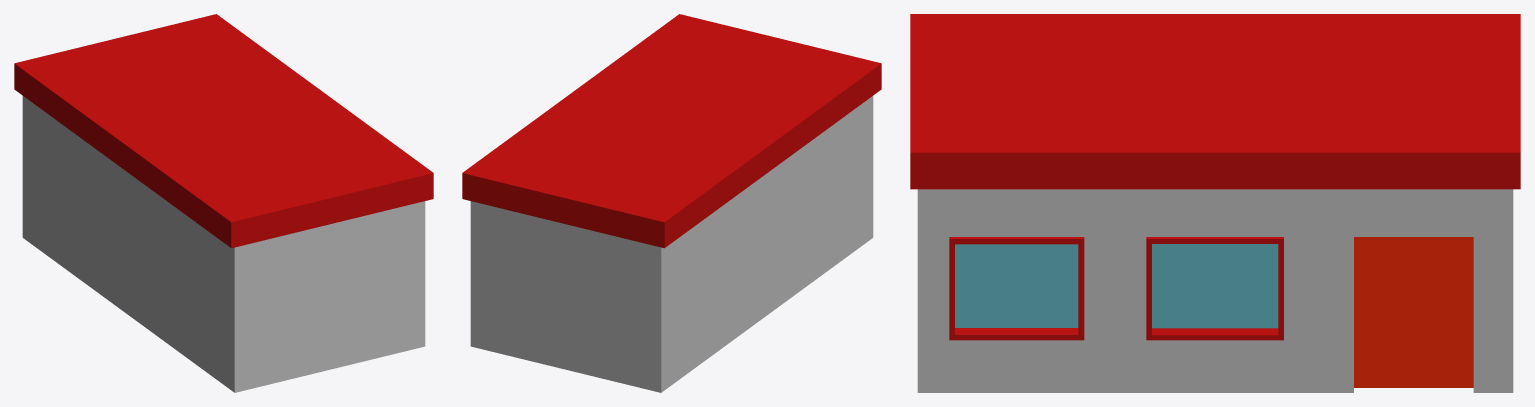
Rendered from town-house-a.glb.
3 views of the same model, side by side, from view 1: azimuth 30°, elevation 25°; view 2: azimuth 150°, elevation 25°; view 3: azimuth 270°, elevation 25° (orthographic). The views are drawn at different scales.
Parts seen in each view (by area): view 1: Building_10; view 2: Building_10; view 3: Building_10.
Part boxes in pixels (x1,y1,x2,y2): Building_10: (14, 14, 433, 392); Building_10: (462, 14, 881, 392); Building_10: (910, 14, 1520, 392).
Bounding box in the file's own units: 3.65 × 3 × 6.79.
